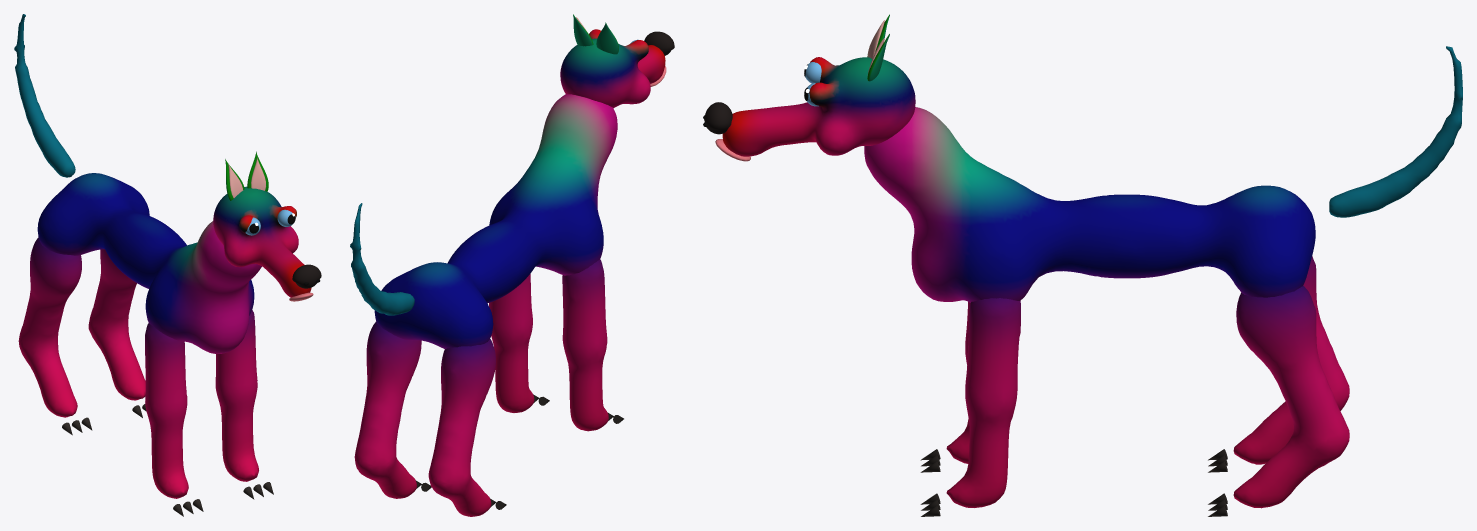
File: pet_husky.glb
The picture shows the model from 3 angles, left to right: view 1: azimuth 30°, elevation 25°; view 2: azimuth 150°, elevation 25°; view 3: azimuth 270°, elevation 25°; orthographic projection. The views are drawn at different scales.
Visible parts, largest first — view 1: Fur_Body, Fur_LegBL, Fur_LegFL, Fur_Head, Fur_LegFR, Fur_LegBR, Fur_Tail, Nose; view 2: Fur_Body, Fur_LegBL, Fur_LegBR, Fur_LegFL, Fur_Head, Fur_LegFR, Fur_Tail, Fur_EarL, Nose; view 3: Fur_Body, Fur_LegBR, Fur_Head, Fur_LegFR, Fur_Tail, Fur_LegBL.
Boxes of the visible parts, x1,y1,x2,y2 form: Fur_Body: (37, 173, 261, 353); Fur_LegBL: (18, 237, 81, 417); Fur_LegFL: (145, 323, 188, 498); Fur_Head: (213, 186, 311, 297); Fur_LegFR: (215, 310, 258, 481); Fur_LegBR: (88, 249, 145, 400); Fur_Tail: (14, 14, 75, 177); Nose: (292, 264, 321, 288); Fur_Body: (374, 94, 617, 348); Fur_LegBL: (428, 339, 495, 516); Fur_LegBR: (354, 321, 421, 498); Fur_LegFL: (562, 259, 608, 431); Fur_Head: (560, 29, 665, 107); Fur_LegFR: (489, 274, 534, 412); Fur_Tail: (350, 203, 414, 315); Fur_EarL: (596, 22, 618, 54); Nose: (644, 31, 674, 55); Fur_Body: (864, 107, 1315, 302); Fur_LegBR: (1233, 285, 1349, 508); Fur_Head: (722, 57, 915, 156); Fur_LegFR: (946, 298, 1020, 507); Fur_Tail: (1329, 46, 1462, 217); Fur_LegBL: (1233, 256, 1349, 464).
Bounding box in the file's own units: 0.2166 × 0.6641 × 0.984.
